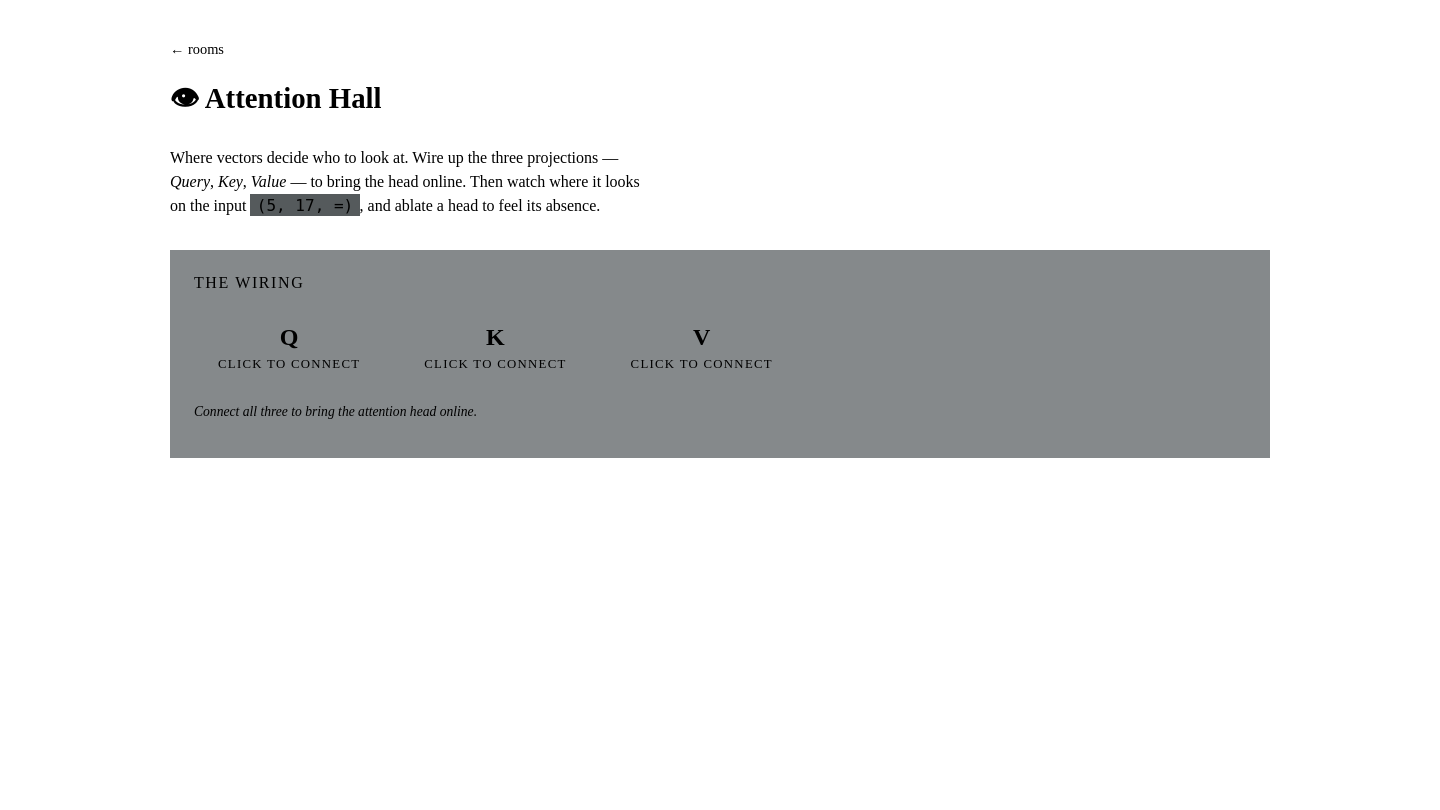
Attention Hall › renders 4 heatmaps (one per attention head) once wired and loaded
This screenshot has width=1440, height=810.
Click the button with class "wire" showing "Q click to connect".
click(289, 348)  # box [194,308,384,388]
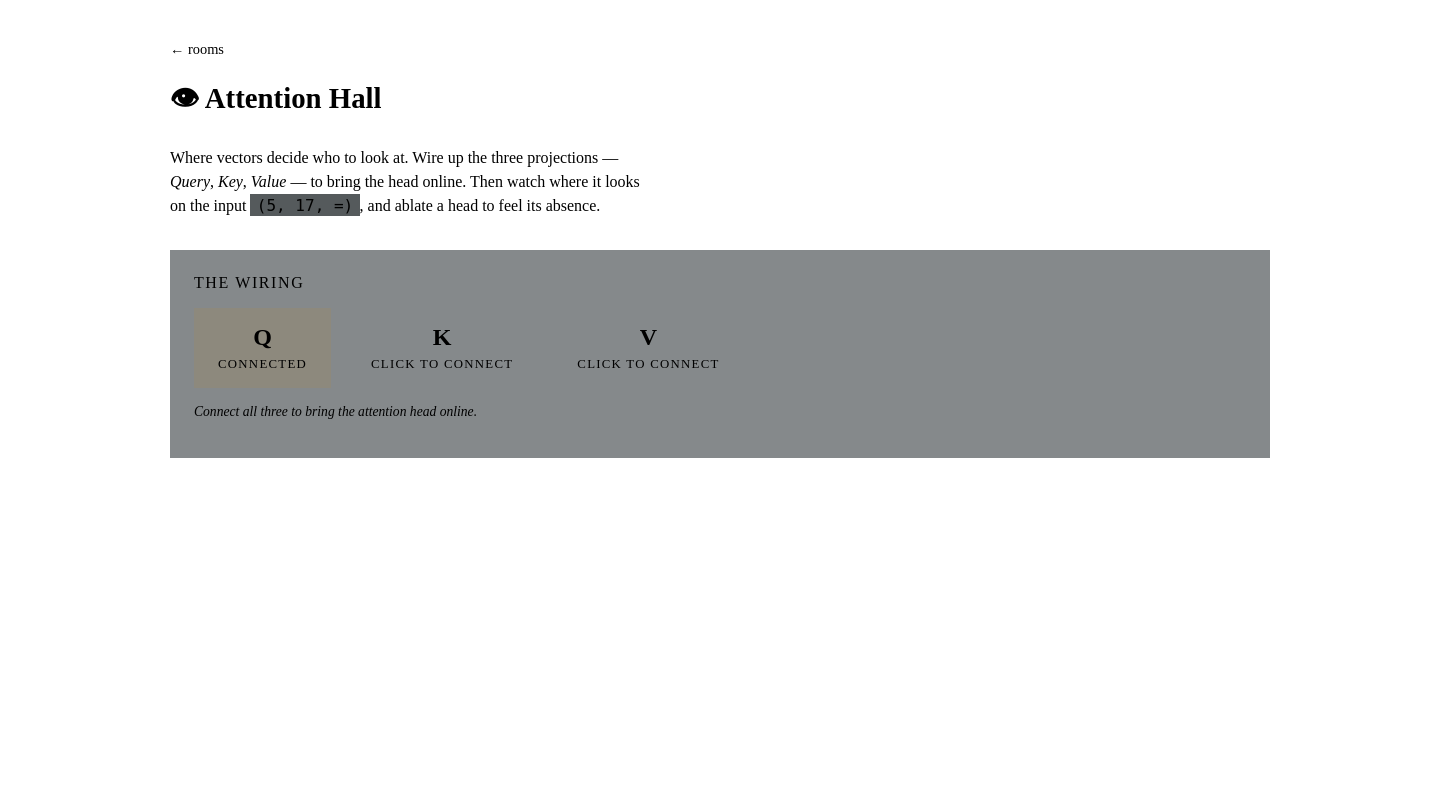
Click the button with class "wire" showing "K click to connect".
click(442, 348)  # box [347,308,537,388]
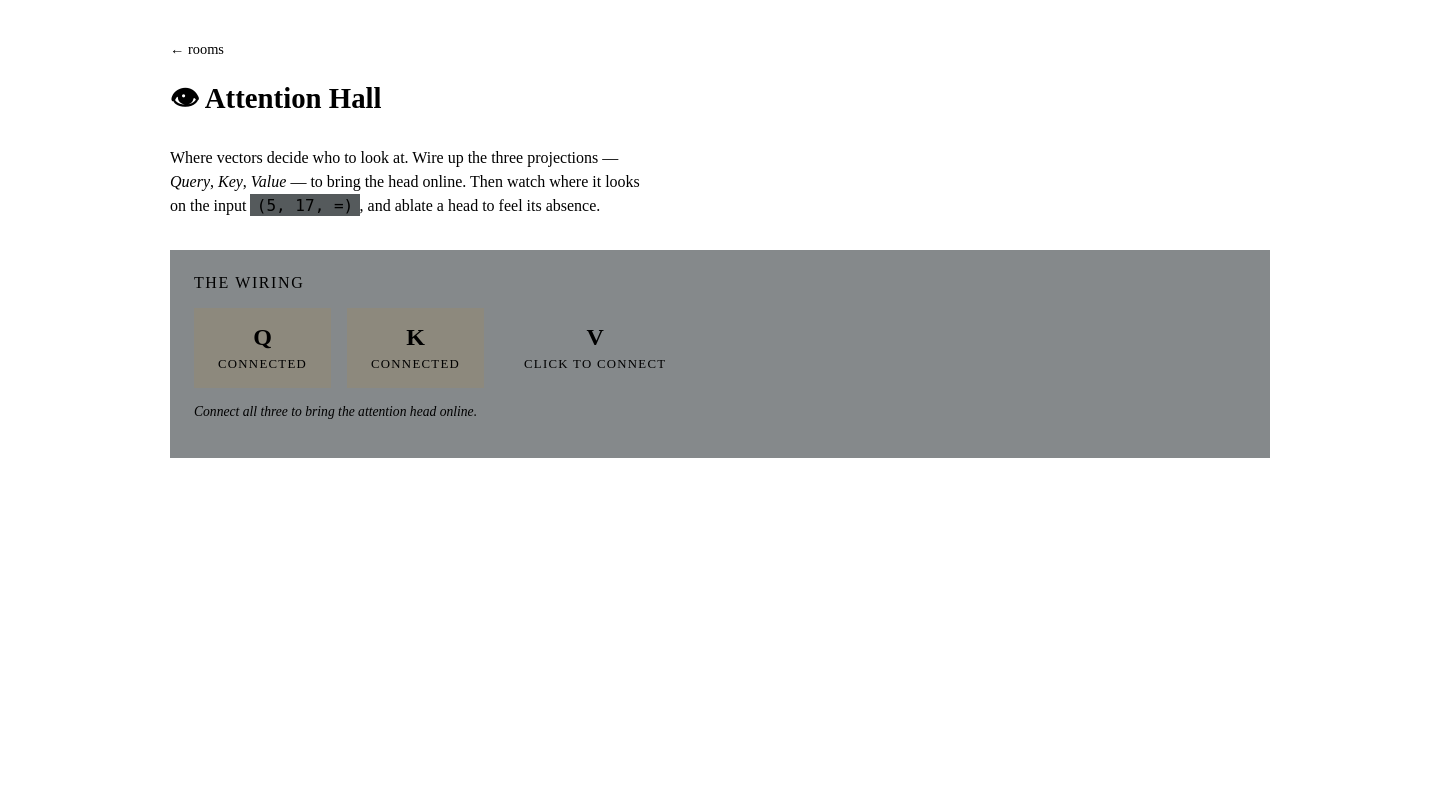
Click the button with class "wire" showing "V click to connect".
click(595, 348)  # box [500,308,690,388]
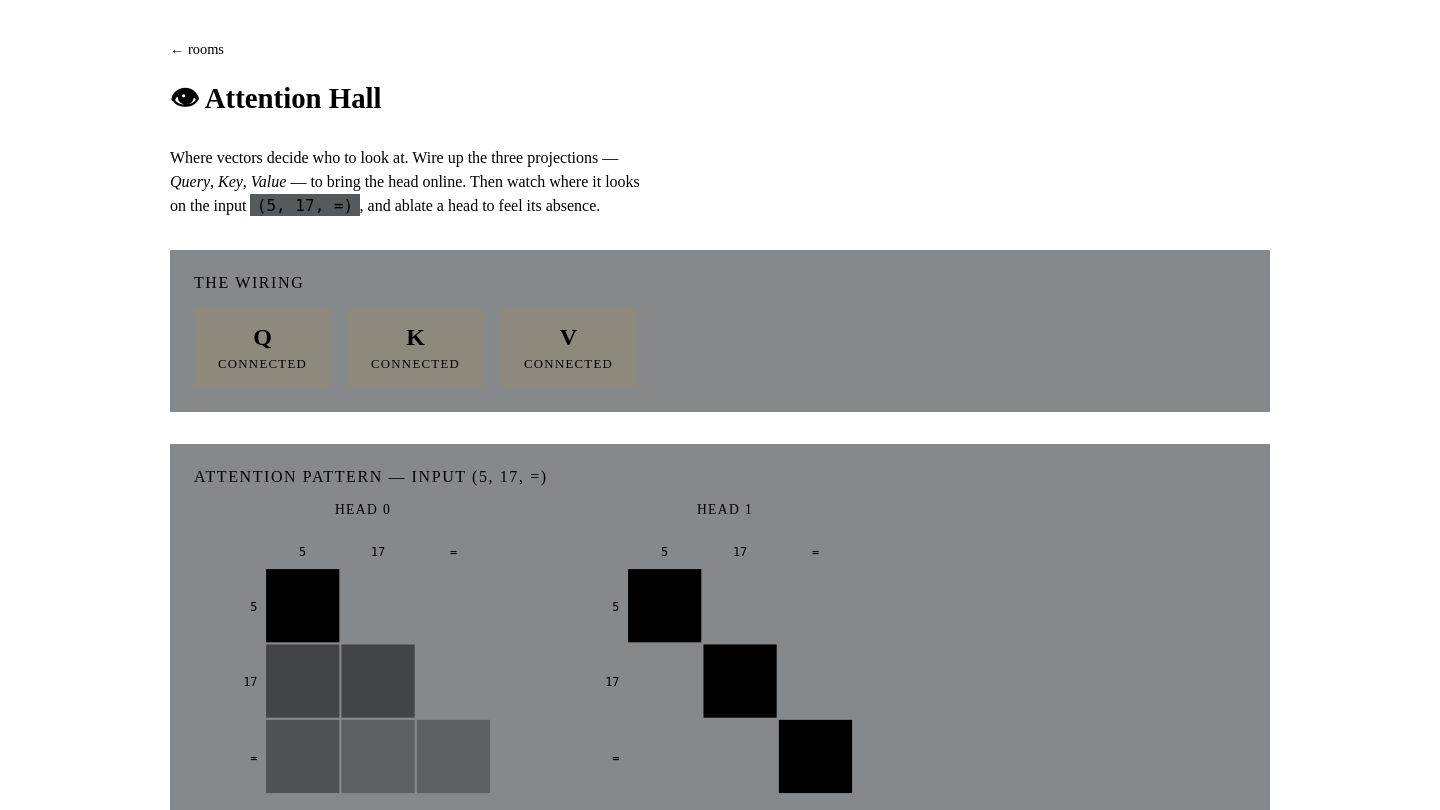
Expected: the number of elements with class "head" is 4
